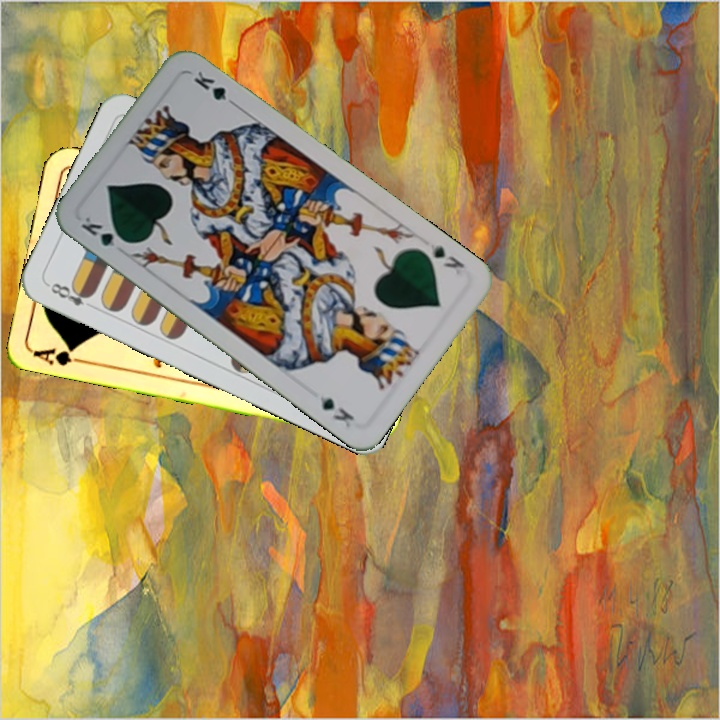E8: (44, 278, 98, 312)
GA: (30, 342, 90, 369)
GK: (76, 212, 132, 251), (426, 239, 467, 278)
